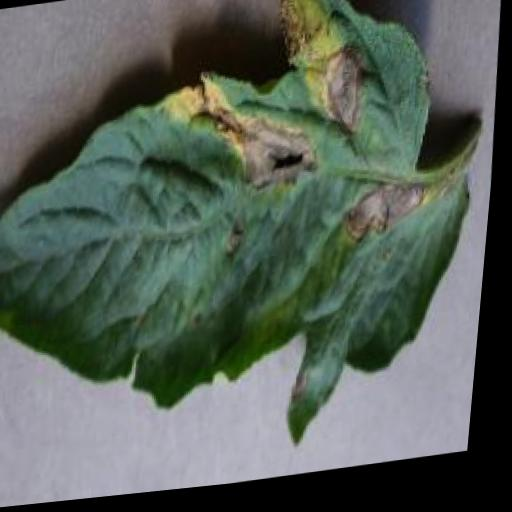Early Blight: (0, 0, 494, 487)
